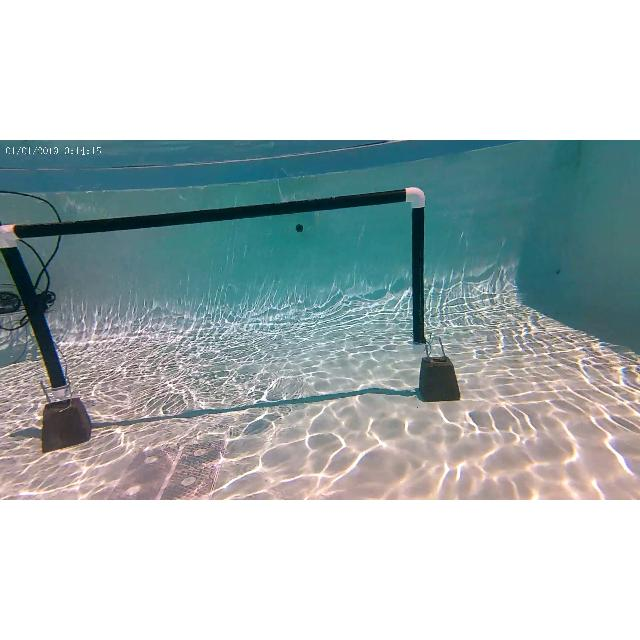prequal gate: (0, 186, 428, 400)
prequal gate leg l: (0, 218, 74, 396), (394, 185, 428, 351)
